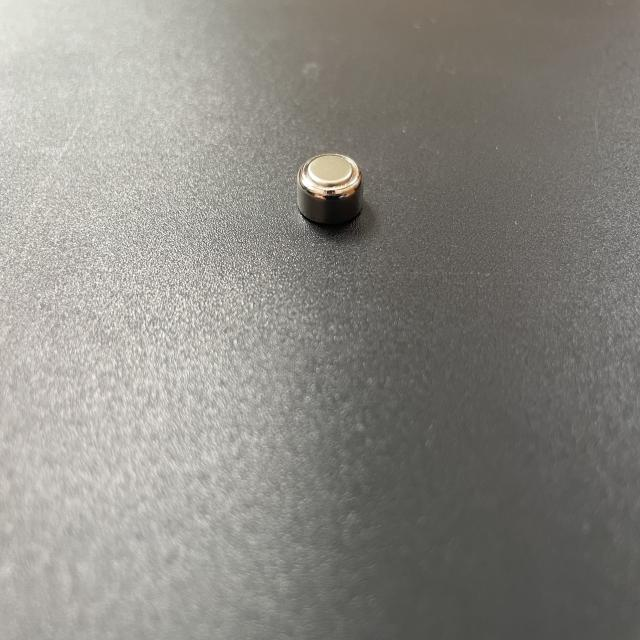COIN: (296, 150, 366, 232)
